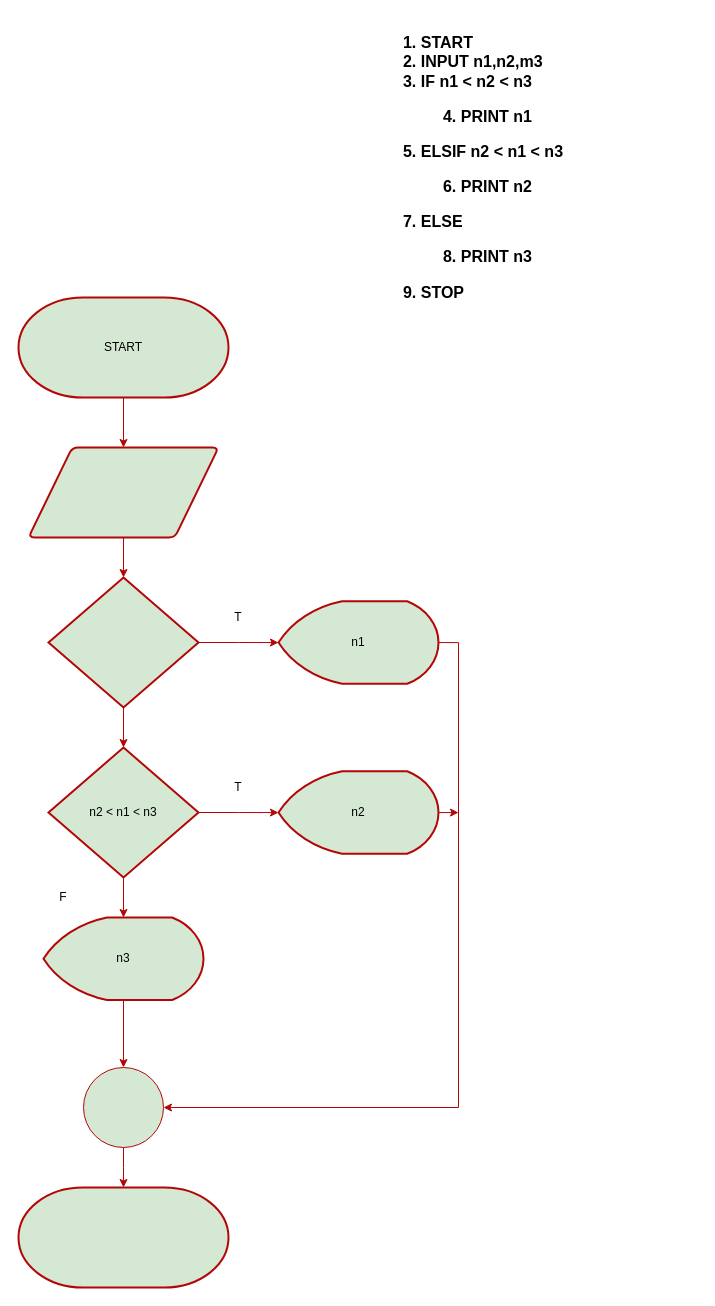
The diagram is 715 pixels wide and 1306 high, and some of its shapes have lost their labels. Each missing label, with the centre of its shape:
"n1 < n2 < n3" belongs at [123,642].
"n1,n2,n3" belongs at [123,492].
"STOP" belongs at [123,1237].
